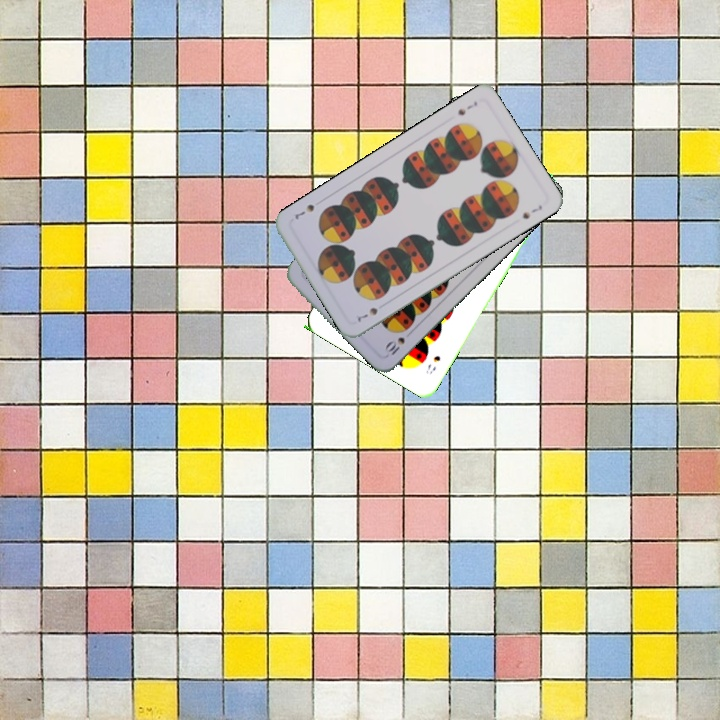S10: (380, 333, 408, 358)
S7: (353, 303, 380, 325), (454, 97, 480, 118)
S8: (422, 352, 443, 377)
